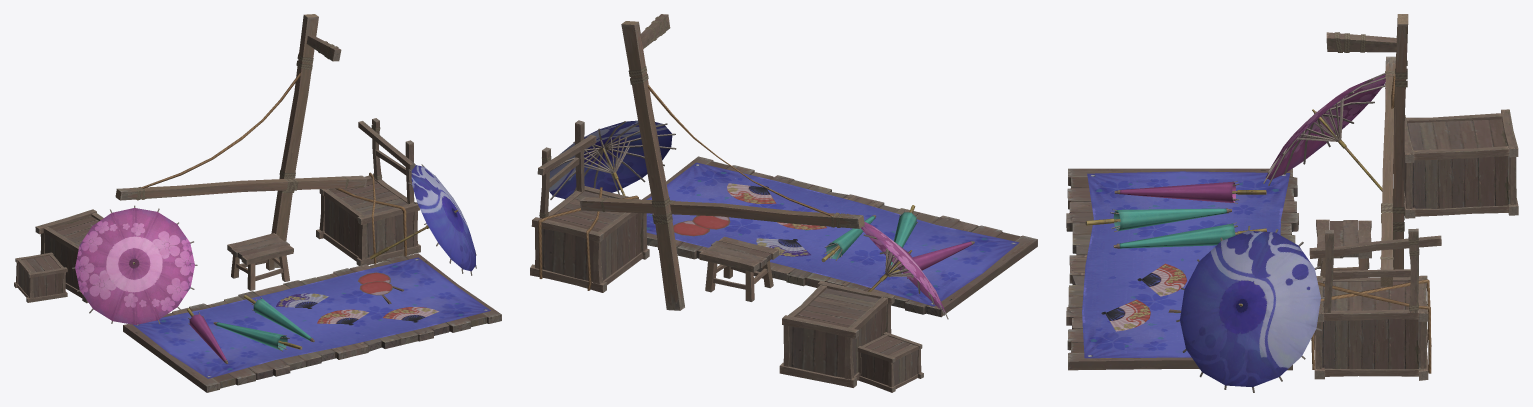
File: Homeworld_Exterior_Dq_Build_TanWei_06_Lod0.fbx
3 views of the same model, side by side, from view 1: azimuth 30°, elevation 25°; view 2: azimuth 150°, elevation 25°; view 3: azimuth 270°, elevation 25° (orthographic). The views are drawn at different scales.
Parts seen in each view (by area): view 1: Area_Dq_Prop_Common_TanWei_03_Lod0; view 2: Area_Dq_Prop_Common_TanWei_03_Lod0; view 3: Area_Dq_Prop_Common_TanWei_03_Lod0.
Part boxes in pixels (left/top/right/bottom): Area_Dq_Prop_Common_TanWei_03_Lod0: left=14, top=14, right=501, bottom=392; Area_Dq_Prop_Common_TanWei_03_Lod0: left=530, top=14, right=1037, bottom=392; Area_Dq_Prop_Common_TanWei_03_Lod0: left=1066, top=14, right=1518, bottom=392.
Size of what is drawn, in the model's own units: 4.98 by 3.01 by 3.79.
